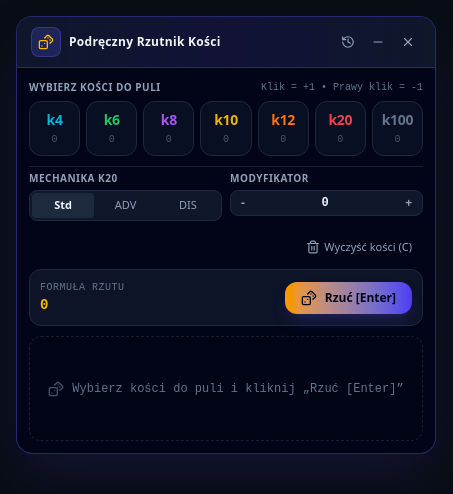
Test: DraggableDiceTray Component › clears dice pool when clicking Clear button
// Add some dice and modifier
What coordinates should you click on to do the following:
click the button with test id "die-btn-d8"
I would click on:
 (169, 128)
Its box is [143,101,194,156].
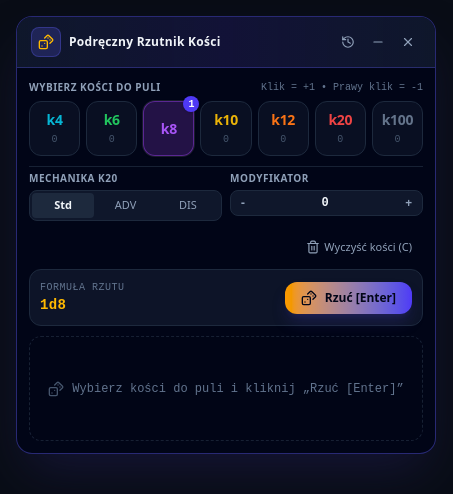
What coordinates should you click on to do the following:
click the button with test id "modifier-plus-btn"
I would click on:
 (409, 203)
Its box is [395,191,422,215].
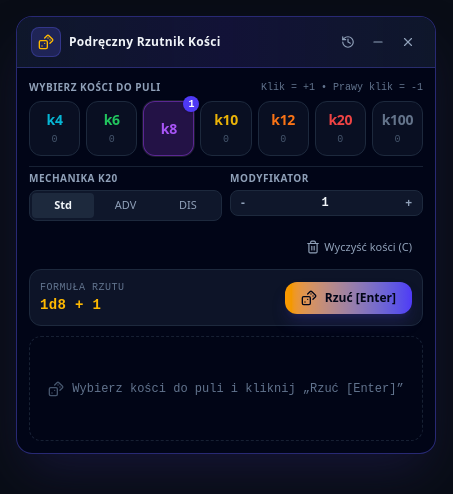
Result: the text with test id "dice-pool-formula" reads "1d8 + 1" at [40,297,101,313]
// Click Clear
What coordinates should you click on to do the following:
click the button with test id "clear-pool-btn"
I would click on:
 (359, 247)
Its box is [295,234,423,259].
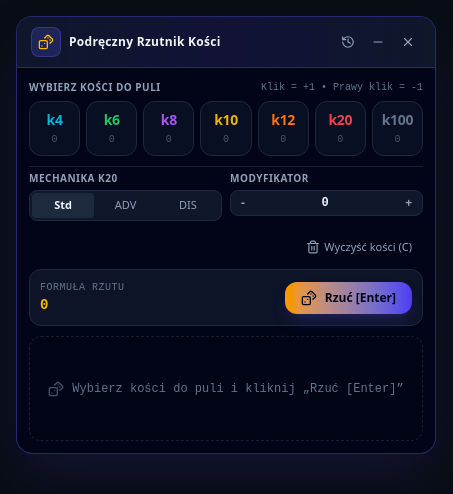
Result: the number field with test id "modifier-input" holds "0" at [255,195,395,211]
Result: the text with test id "dice-pool-formula" reads "0" at [40,297,49,313]
